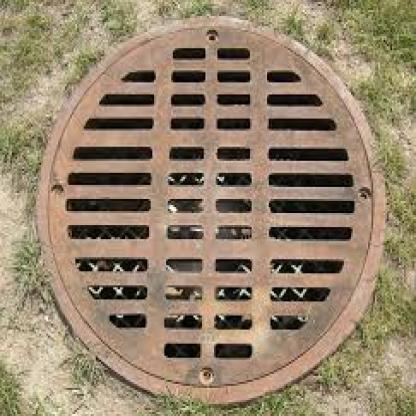open drainage-not overflowing-: (44, 19, 396, 398)
